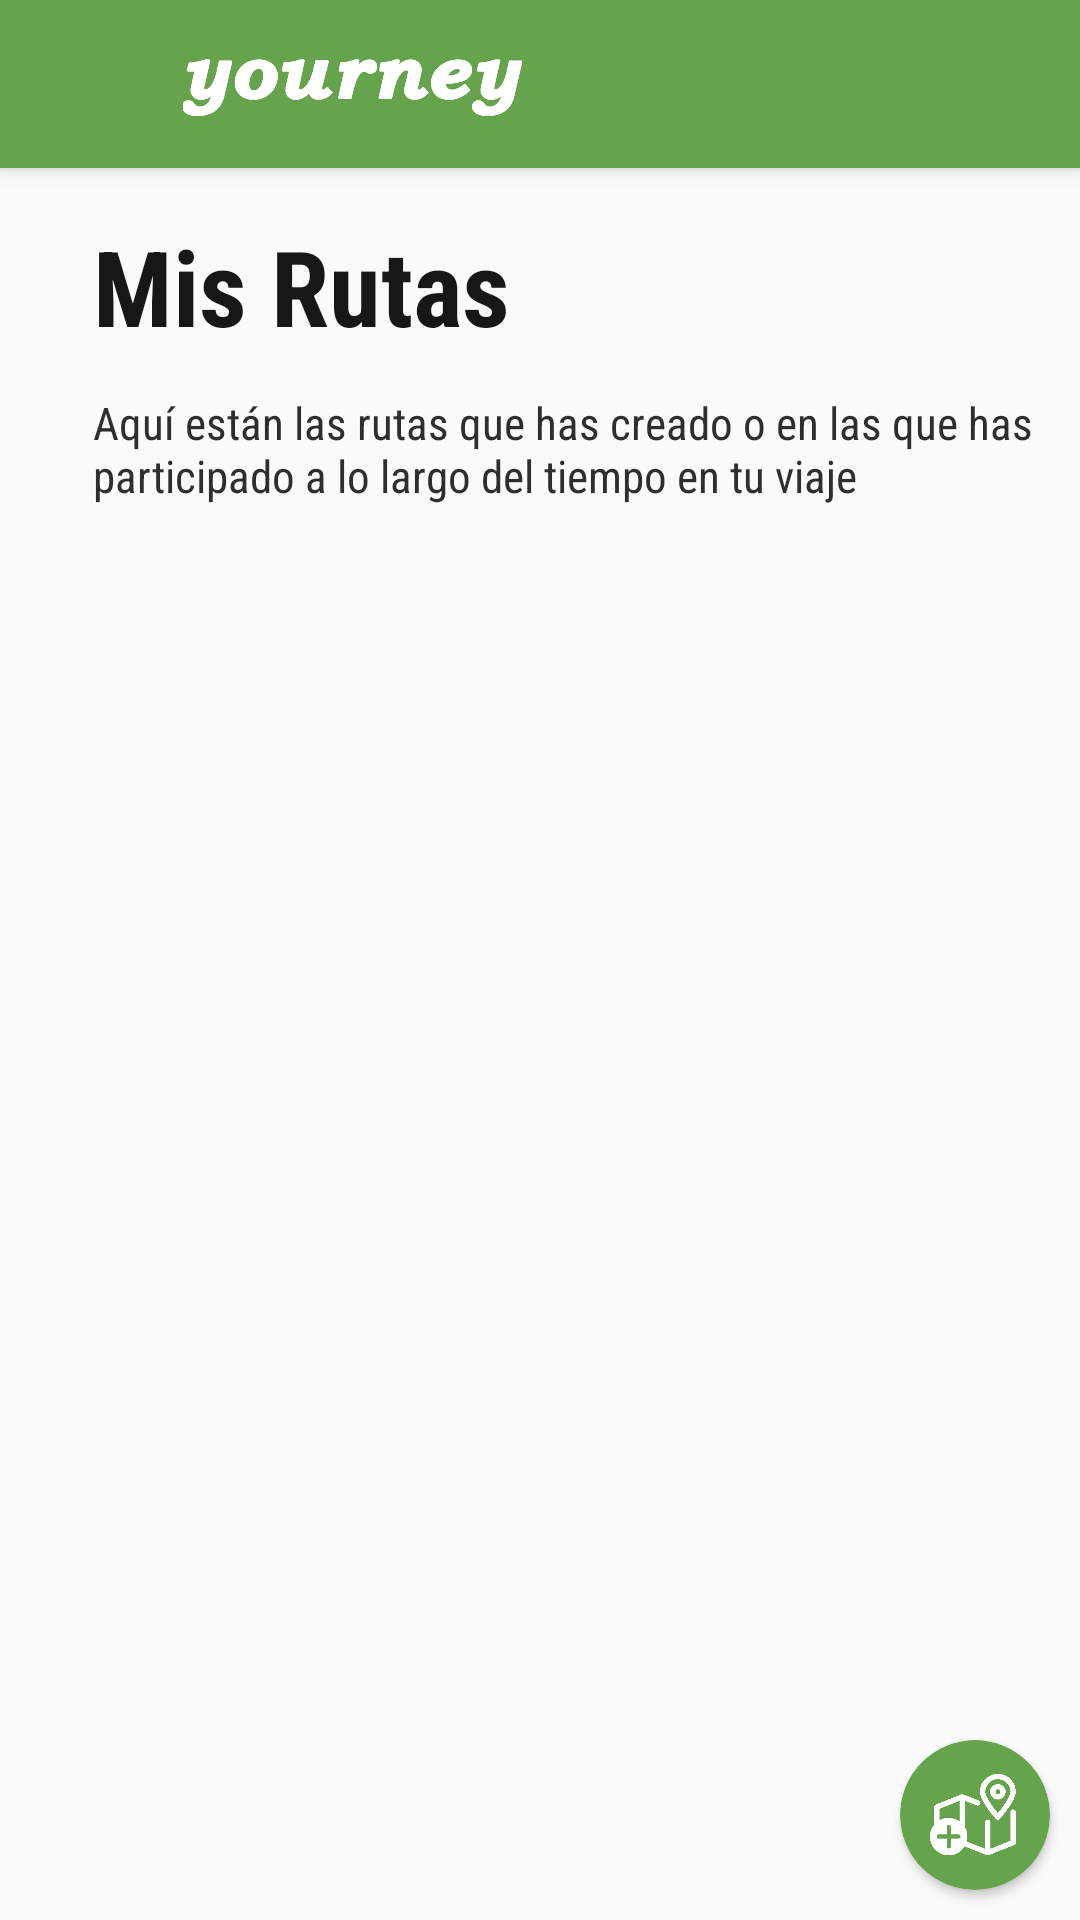

Where to tap for icons on this 1080px×1920px app screen, as (x=x, y=y):
annadiruta: (x=975, y=1815)
